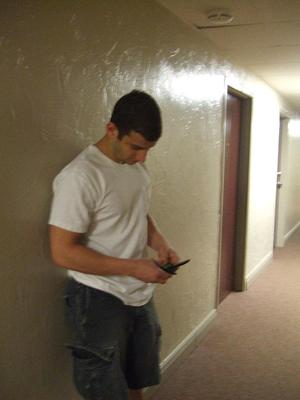person: (46, 90, 181, 400)
